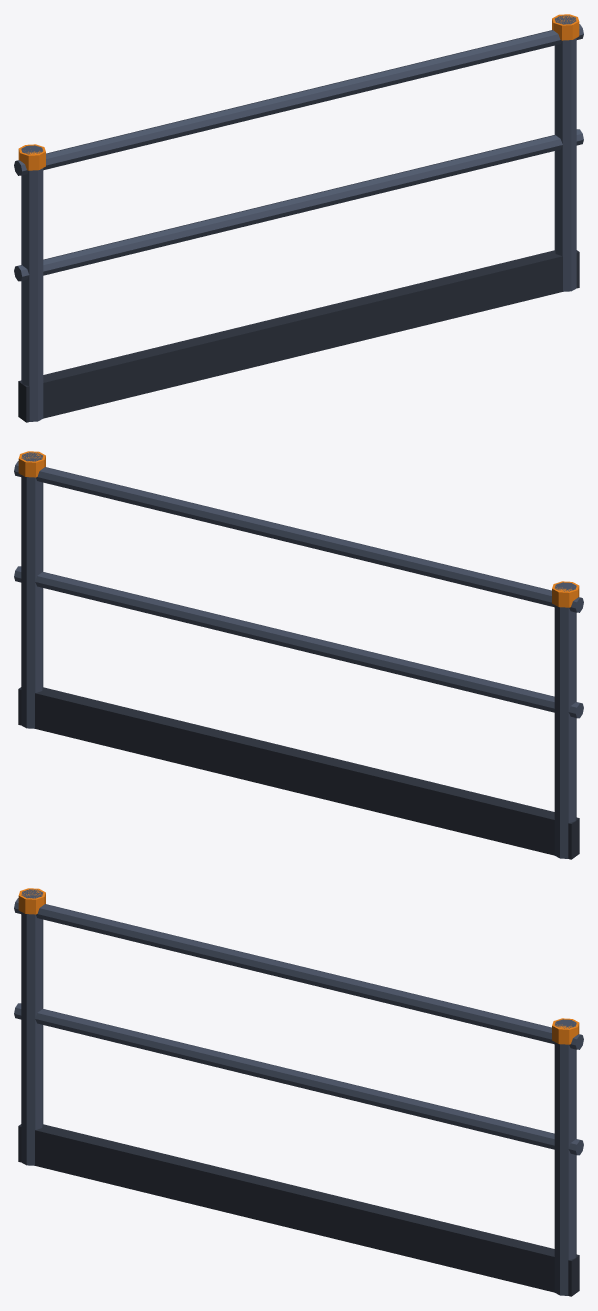
File: rail_seg.glb
The picture shows the model from 3 angles, top to bottom: view 1: azimuth 30°, elevation 25°; view 2: azimuth 150°, elevation 25°; view 3: azimuth 330°, elevation 25°; orthographic projection.
Parts seen in each view (by area): view 1: rail_seg; view 2: rail_seg; view 3: rail_seg.
Boxes of the visible parts, <box> form: rail_seg: <box>14,14,583,422</box>; rail_seg: <box>14,451,583,859</box>; rail_seg: <box>14,888,583,1296</box>.
Size of the model in its own units: 1.98 by 0.9 by 0.086.
